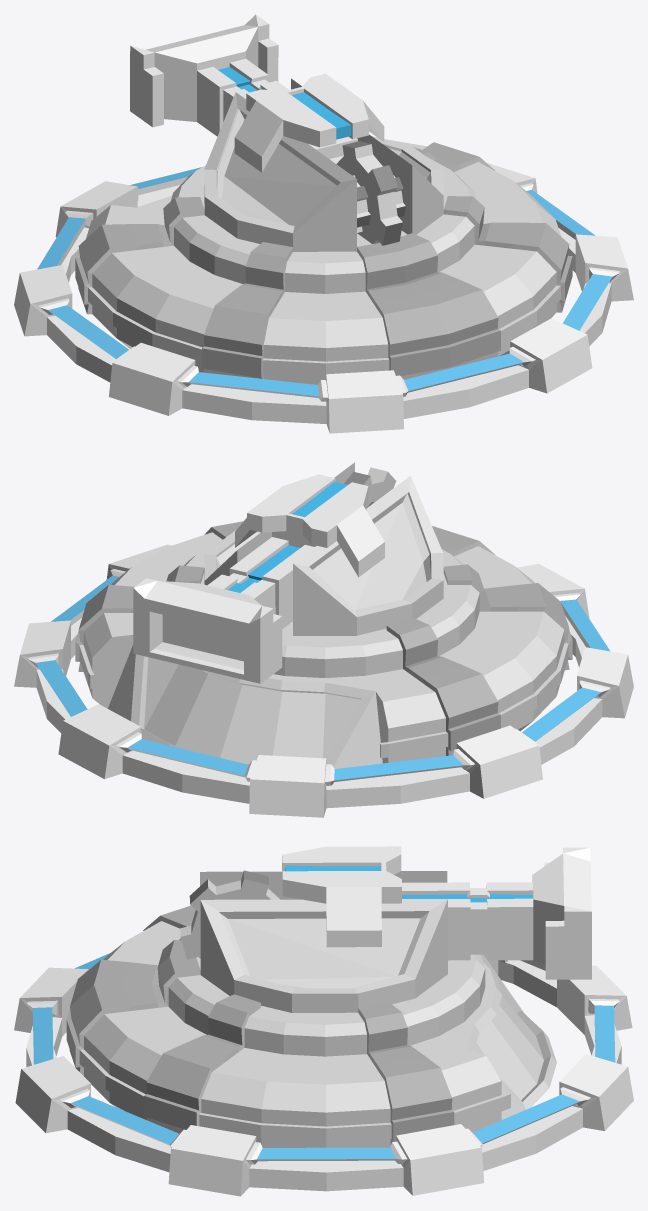
File: EnemyCannonLongRange.fbx
3 renders of one model, top to bottom at view 1: azimuth 30°, elevation 25°; view 2: azimuth 150°, elevation 25°; view 3: azimuth 270°, elevation 25°, orthographic. The views are drawn at different scales.
Parts seen in each view (by area): view 1: Platform, Energy Ring, Cannon, Gear (Large), Gears (Small); view 2: Platform, Energy Ring, Cannon, Gear (Large); view 3: Platform, Energy Ring, Cannon, Gear (Large).
Boxes of the visible parts, x1,y1,x2,y2 form: Platform: (75, 78, 572, 384); Energy Ring: (14, 163, 633, 433); Cannon: (130, 14, 384, 172); Gear (Large): (329, 141, 402, 245); Gears (Small): (350, 165, 405, 232); Platform: (75, 462, 572, 768); Energy Ring: (14, 544, 633, 817); Cannon: (133, 474, 384, 683); Gear (Large): (344, 467, 396, 506); Platform: (66, 871, 556, 1147); Energy Ring: (14, 953, 633, 1196); Cannon: (282, 846, 591, 979); Gear (Large): (180, 870, 279, 959).
Bounding box in the file's own units: 747 × 747 × 264.
